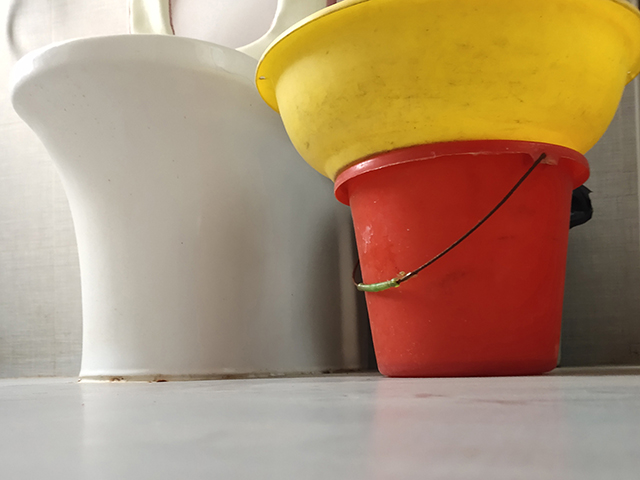closestool: (5, 1, 375, 384)
